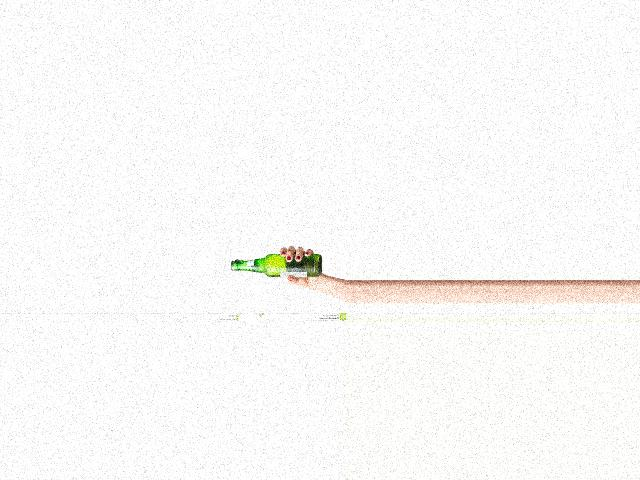beer: (230, 252, 321, 278)
